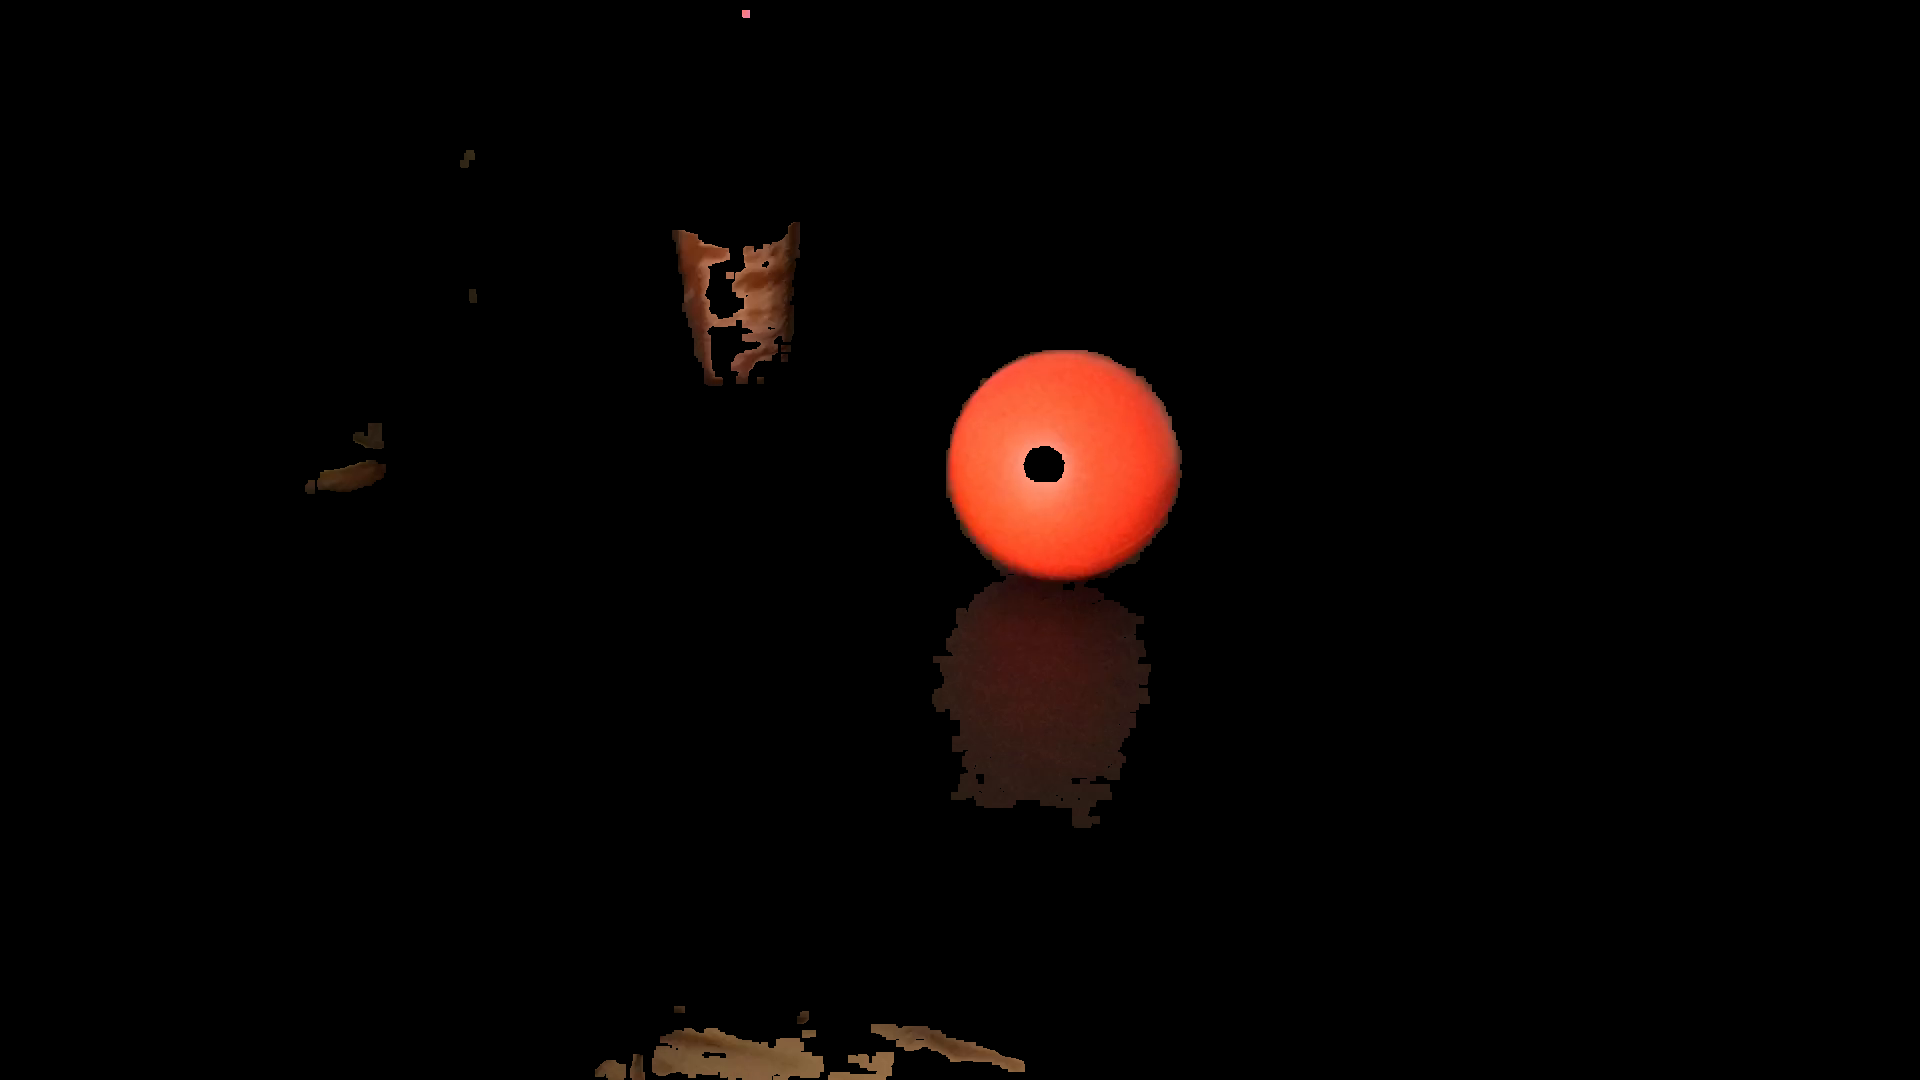Ball: (949, 349, 1184, 588)
